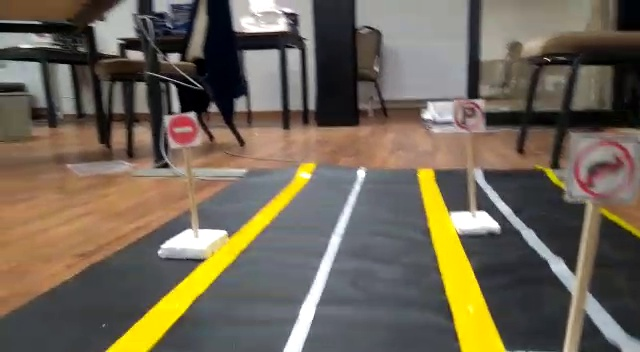girisi_olmayan_yol: (163, 112, 201, 145)
park_yapilmaz: (451, 97, 487, 131)
saga_donulmez: (568, 139, 635, 196)
